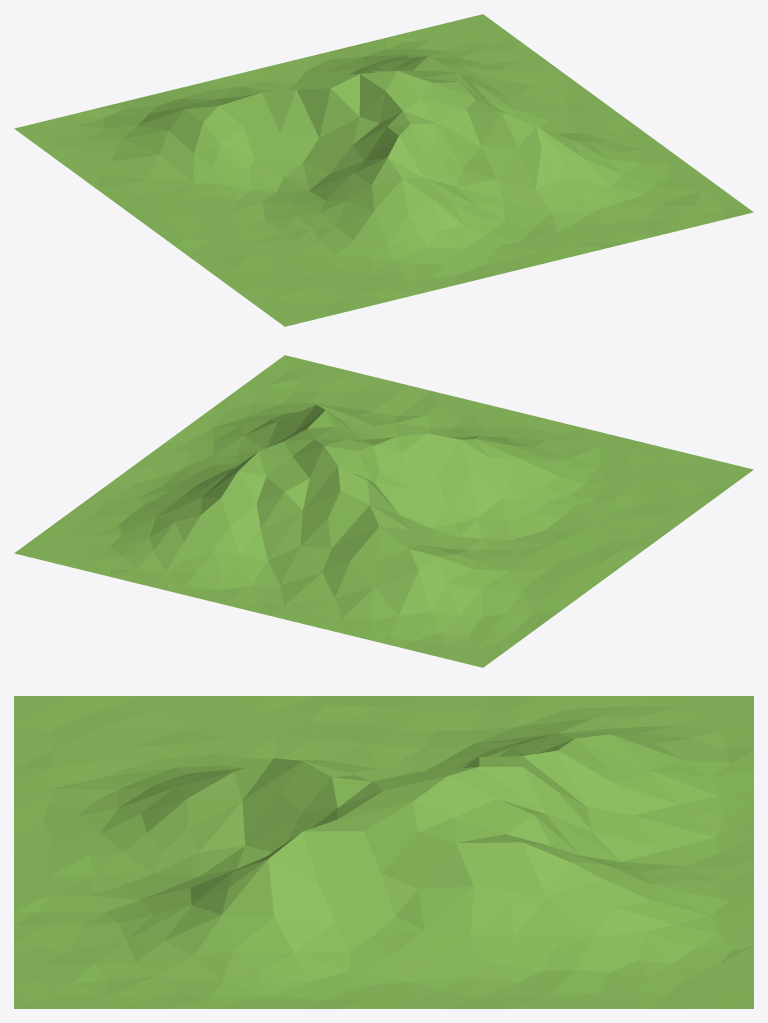
The model's file is MT_Terrain_M_a_22_LOD.fbx.
The picture shows the model from 3 angles, top to bottom: view 1: azimuth 30°, elevation 25°; view 2: azimuth 150°, elevation 25°; view 3: azimuth 270°, elevation 25°; orthographic projection. The views are drawn at different scales.
Visible parts, largest first — view 1: MT_Terrain_M_a_22_LOD0; view 2: MT_Terrain_M_a_22_LOD0; view 3: MT_Terrain_M_a_22_LOD0.
Part boxes in pixels (left/top/right/bottom): MT_Terrain_M_a_22_LOD0: left=14, top=14, right=753, bottom=326; MT_Terrain_M_a_22_LOD0: left=14, top=355, right=753, bottom=667; MT_Terrain_M_a_22_LOD0: left=14, top=696, right=753, bottom=1008.
Size of what is drawn, in the model's own units: 5000 by 759 by 5000.
